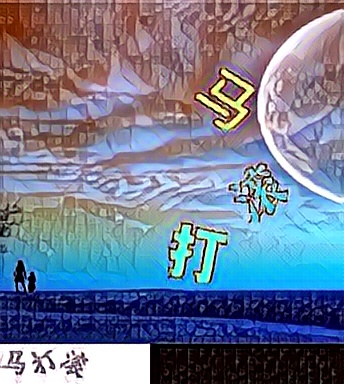B4F2: (165, 219, 232, 283)
B9F6: (226, 162, 293, 226)
C2ED: (193, 68, 260, 132)
